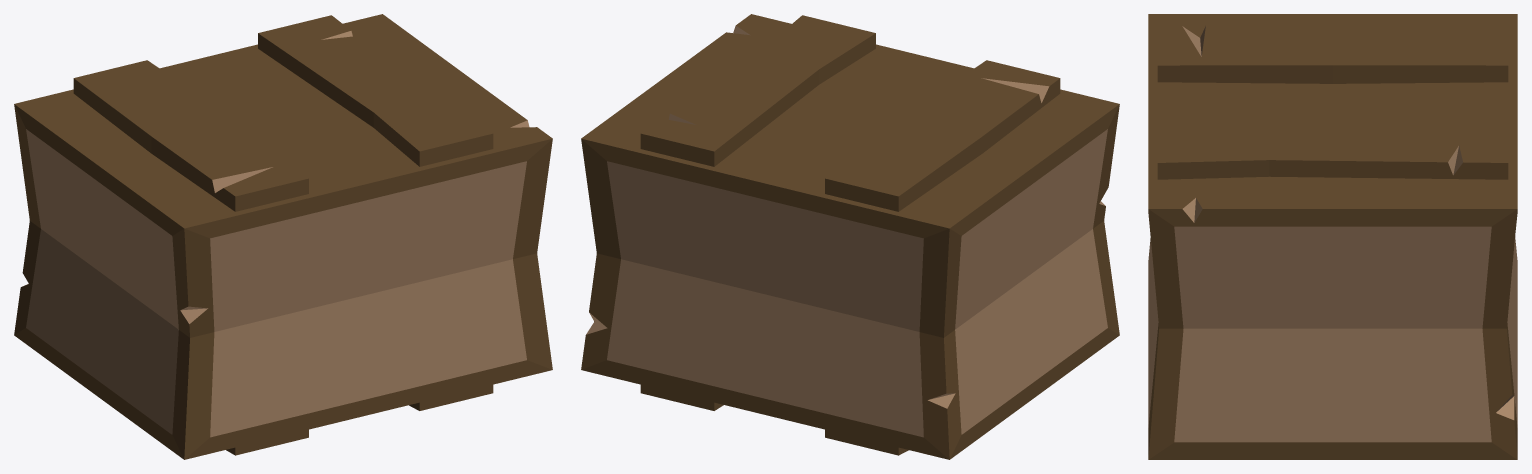
The model's file is Box_5_Brown.fbx.
The picture shows the model from 3 angles, left to right: view 1: azimuth 30°, elevation 25°; view 2: azimuth 150°, elevation 25°; view 3: azimuth 270°, elevation 25°; orthographic projection. The views are drawn at different scales.
Parts seen in each view (by area): view 1: Box_5_Brown_Part_1, Box_5_Brown_Part_2; view 2: Box_5_Brown_Part_1, Box_5_Brown_Part_2; view 3: Box_5_Brown_Part_1, Box_5_Brown_Part_2.
Boxes of the visible parts, x1,y1,x2,y2 form: Box_5_Brown_Part_1: [14, 14, 552, 459]; Box_5_Brown_Part_2: [24, 31, 529, 437]; Box_5_Brown_Part_1: [581, 14, 1119, 459]; Box_5_Brown_Part_2: [586, 26, 1107, 437]; Box_5_Brown_Part_1: [1148, 14, 1517, 459]; Box_5_Brown_Part_2: [1148, 26, 1517, 442].
Size of the model in its own units: 50 by 34.22 by 40.
